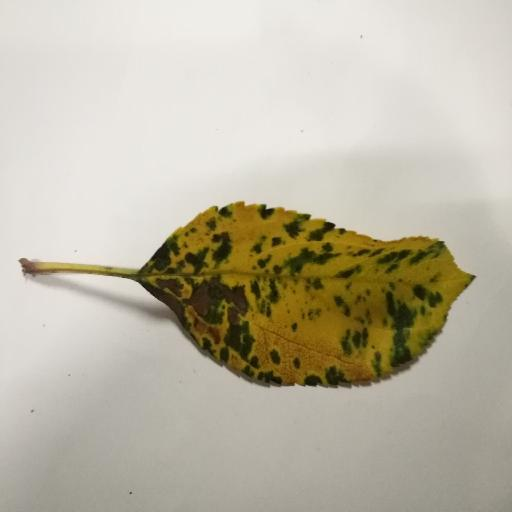Brown_Spot: (157, 273, 266, 364)
